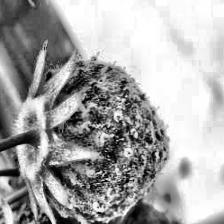Powdery Mildew Fruit: (13, 38, 170, 224), (0, 208, 76, 224)
